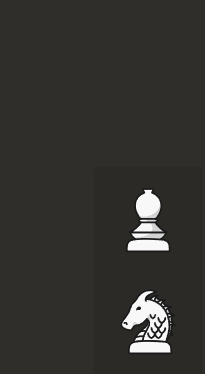H: (114, 277, 185, 363)
W: (113, 175, 181, 266)
